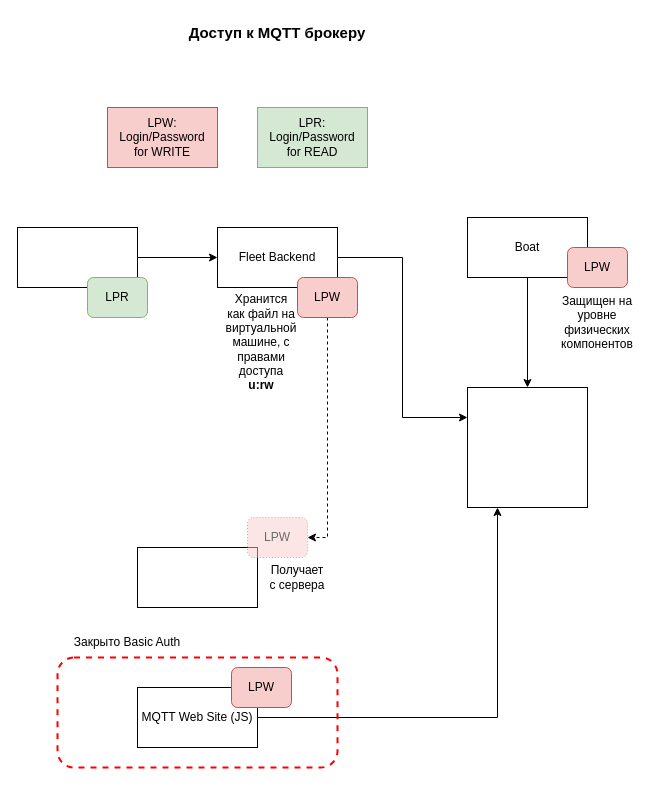
The diagram is 651 pixels wide and 785 high, and some of its shapes have lost their labels. Each missing label, with the centre of its shape:
"Fleet Frontend" belongs at point 77,257.
"MQTT Broker" belongs at point 527,447.
"Proteus Monitor Android App" belongs at point 197,577.
